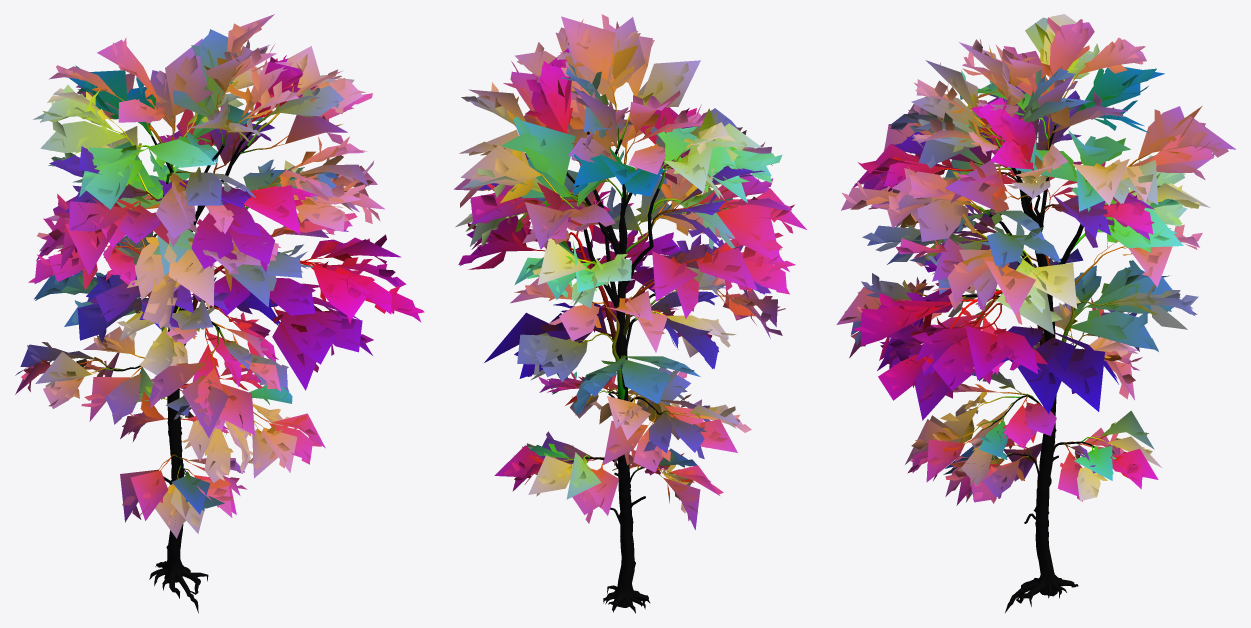
File: SM_EuropeanBeech_L_02.fbx
3 views of the same model, side by side, from view 1: azimuth 30°, elevation 25°; view 2: azimuth 150°, elevation 25°; view 3: azimuth 270°, elevation 25° (orthographic). The views are drawn at different scales.
Parts seen in each view (by area): view 1: SM_EuropeanBeech_L_02_LOD0; view 2: SM_EuropeanBeech_L_02_LOD0; view 3: SM_EuropeanBeech_L_02_LOD0.
Boxes of the visible parts, box(x1,y1,x2,y2) form: SM_EuropeanBeech_L_02_LOD0: box(15, 14, 424, 613); SM_EuropeanBeech_L_02_LOD0: box(454, 14, 806, 613); SM_EuropeanBeech_L_02_LOD0: box(836, 14, 1235, 612).
Size of the model in its own units: 851 by 819 by 1343.
